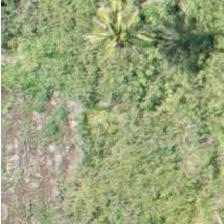coconut_tree: (71, 0, 161, 78)
